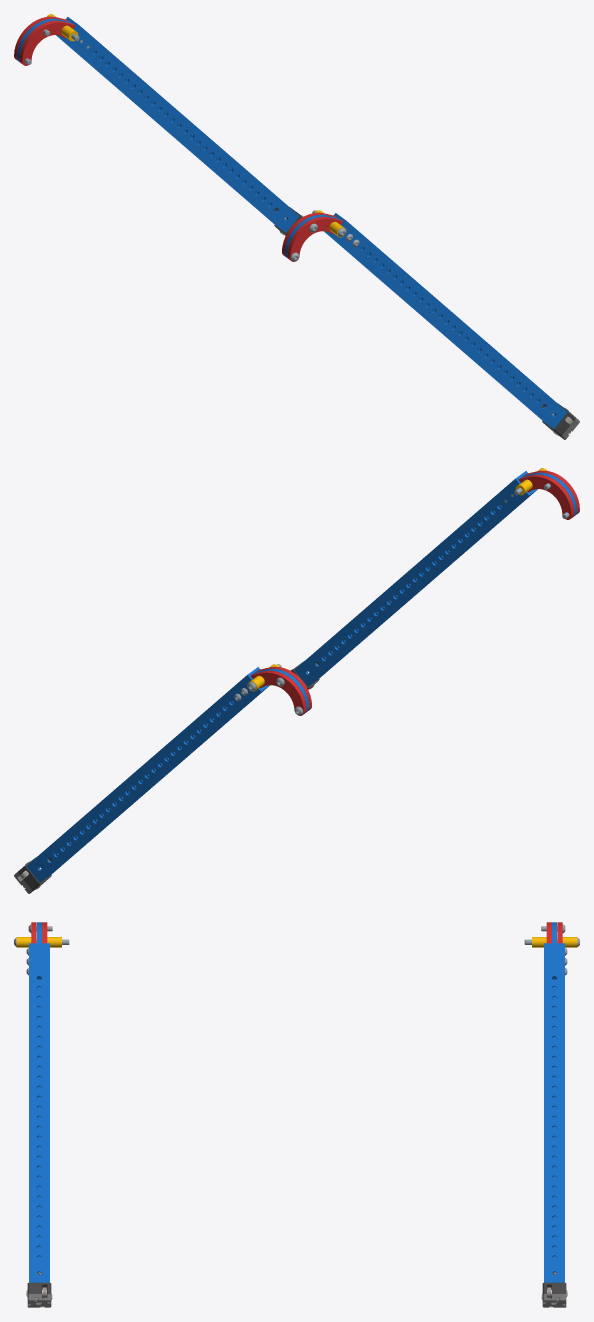
3 views of the same model, one above another, from view 1: azimuth 30°, elevation 25°; view 2: azimuth 150°, elevation 25°; view 3: azimuth 270°, elevation 25° (orthographic). The views are drawn at different scales.
Visible parts, largest first — view 1: F5002 - Tube 1"x1"x17.017" (×2), F5003 - Climber Hook (×2); view 2: F5002 - Tube 1"x1"x17.017" (×2), F5003 - Climber Hook (×2); view 3: F5002 - Tube 1"x1"x17.017" (×2).
Boxes of the visible parts, box(x1,y1,x2,y2) form: F5002 - Tube 1"x1"x17.017" (×2): box(56, 17, 567, 428); F5003 - Climber Hook (×2): box(19, 20, 342, 261); F5002 - Tube 1"x1"x17.017" (×2): box(26, 471, 537, 882); F5003 - Climber Hook (×2): box(251, 474, 574, 715); F5002 - Tube 1"x1"x17.017" (×2): box(29, 943, 564, 1282).
Size of the model in its own units: 0.3869 by 0.3572 by 0.6836.
